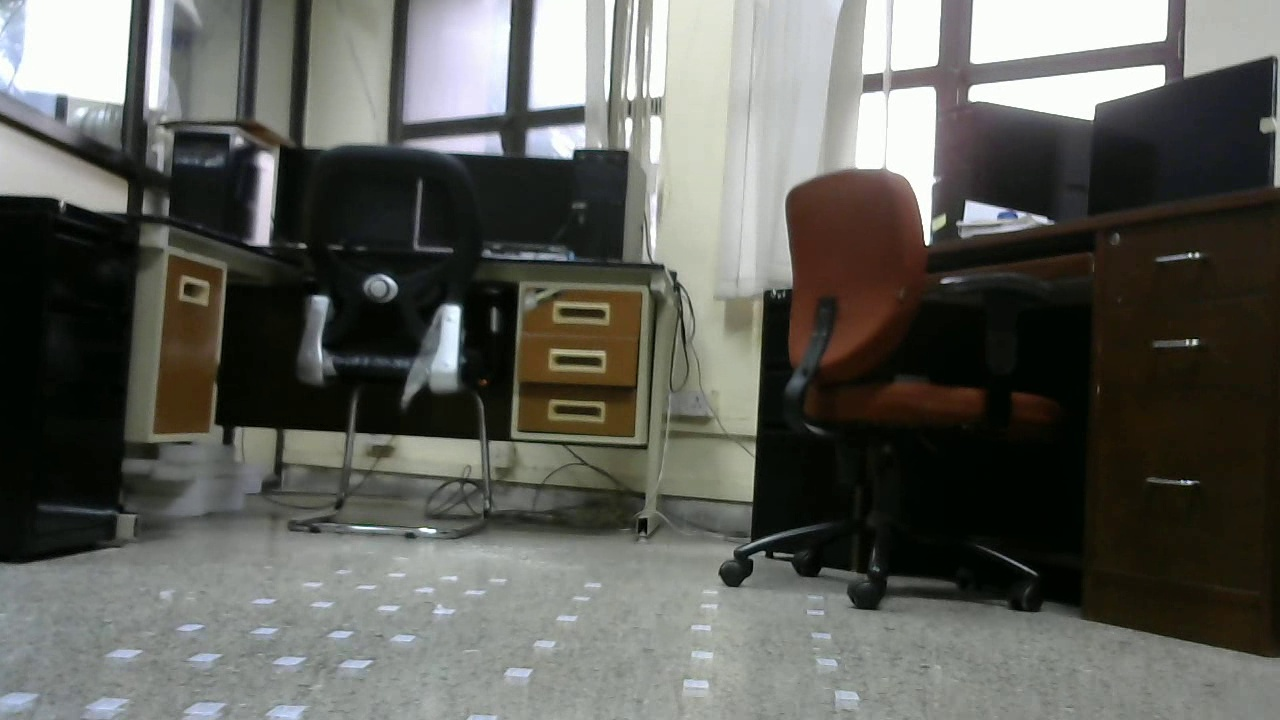chair: (715, 169, 1060, 617), (284, 141, 509, 535)
